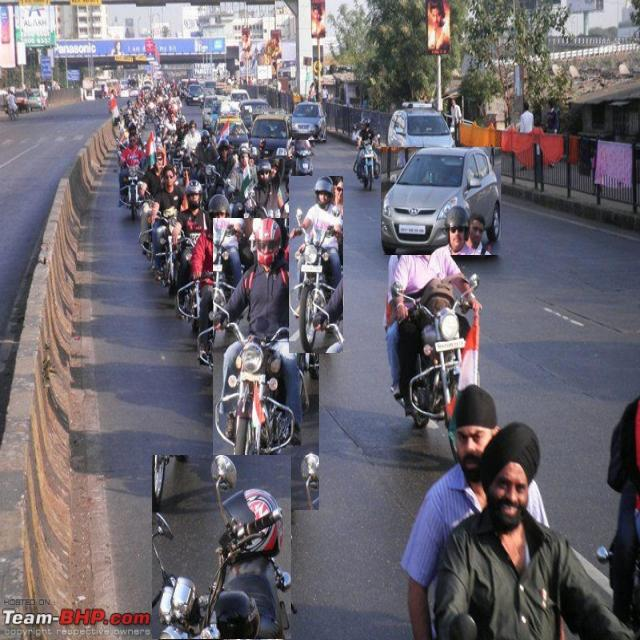car: (381, 148, 501, 255), (388, 102, 455, 165), (251, 114, 292, 159), (290, 103, 326, 140)
motorcycle: (214, 218, 319, 510), (152, 455, 291, 640), (390, 206, 481, 427), (290, 176, 343, 353), (119, 134, 144, 220)
